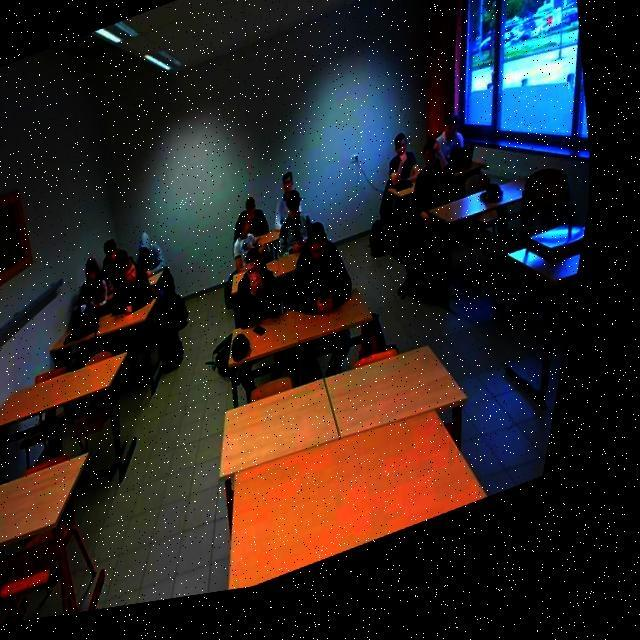phone_use: (288, 221, 350, 312), (279, 190, 325, 252), (136, 231, 173, 292)
